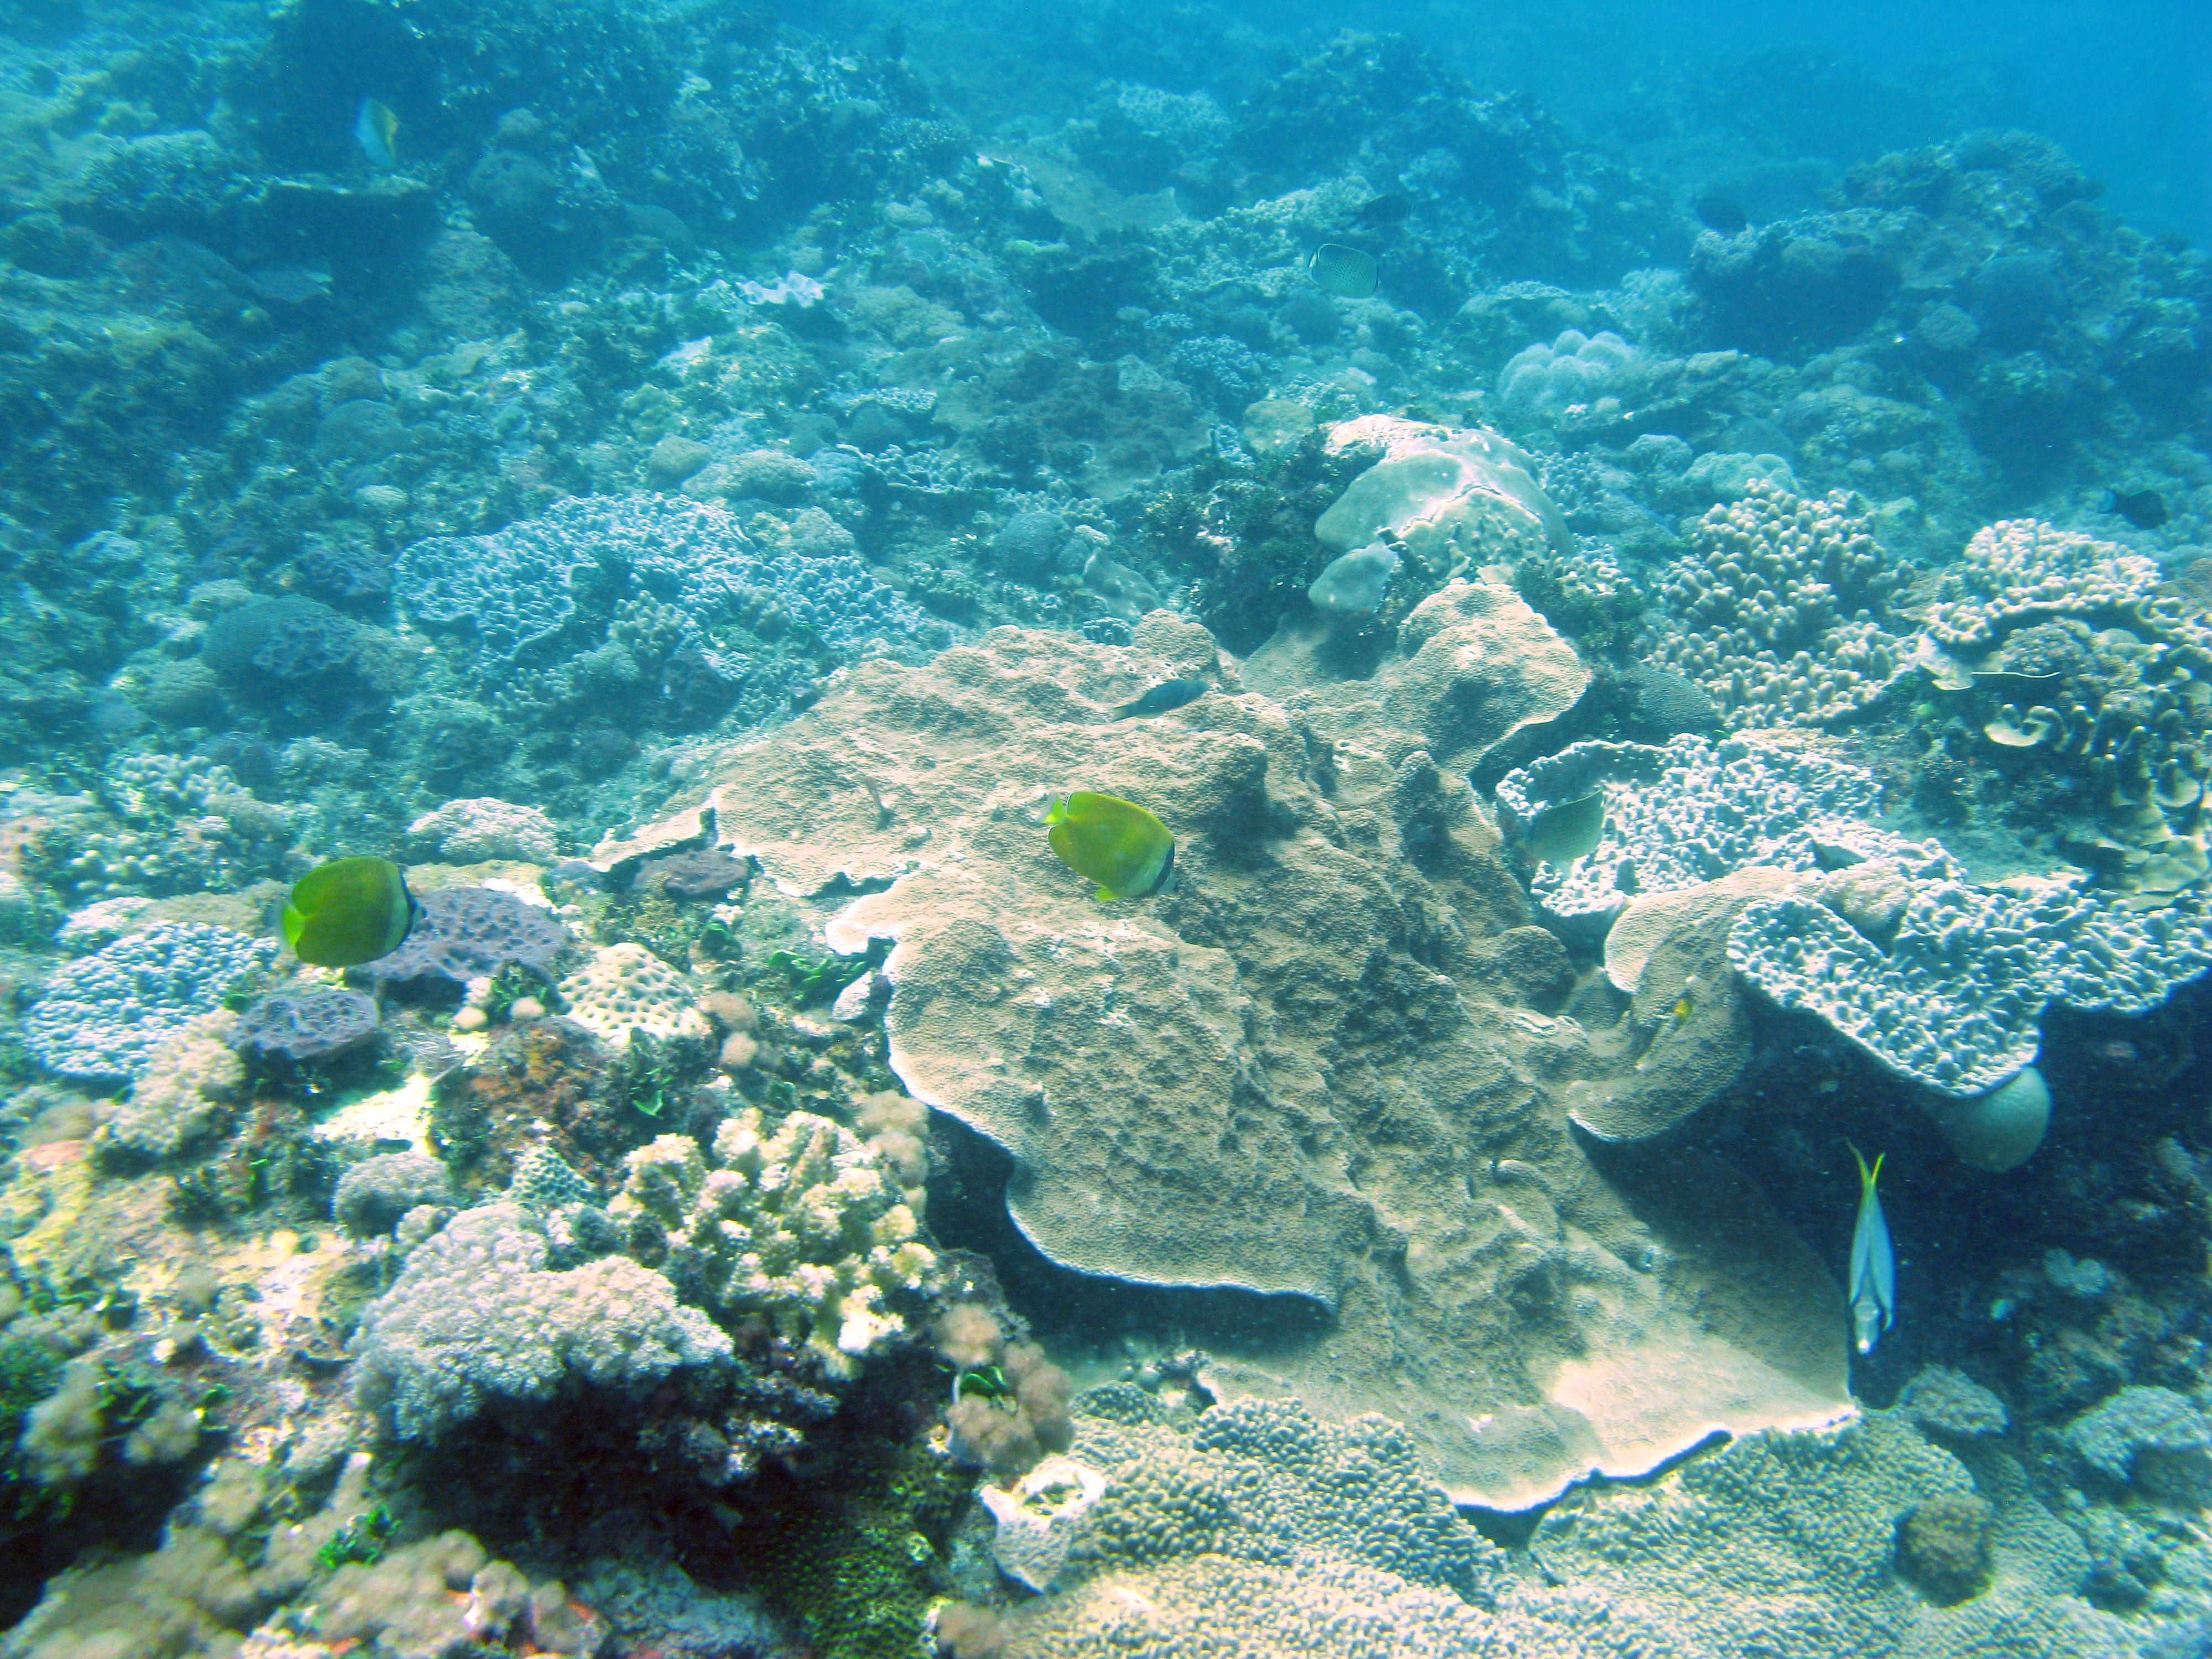Fish: (1024, 753, 1242, 974), (246, 824, 460, 1016)
